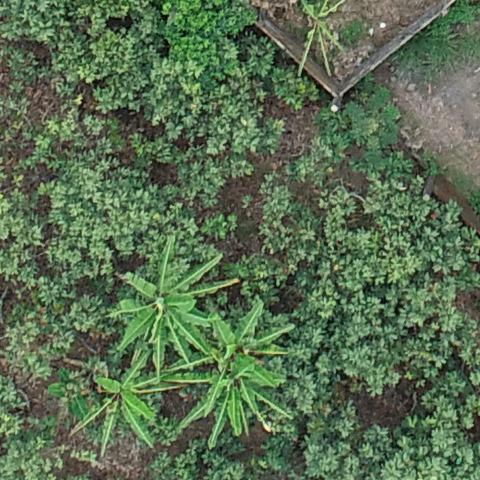Banana-plant: (113, 249, 241, 360), (193, 303, 305, 409), (180, 350, 294, 446), (69, 354, 162, 458)
